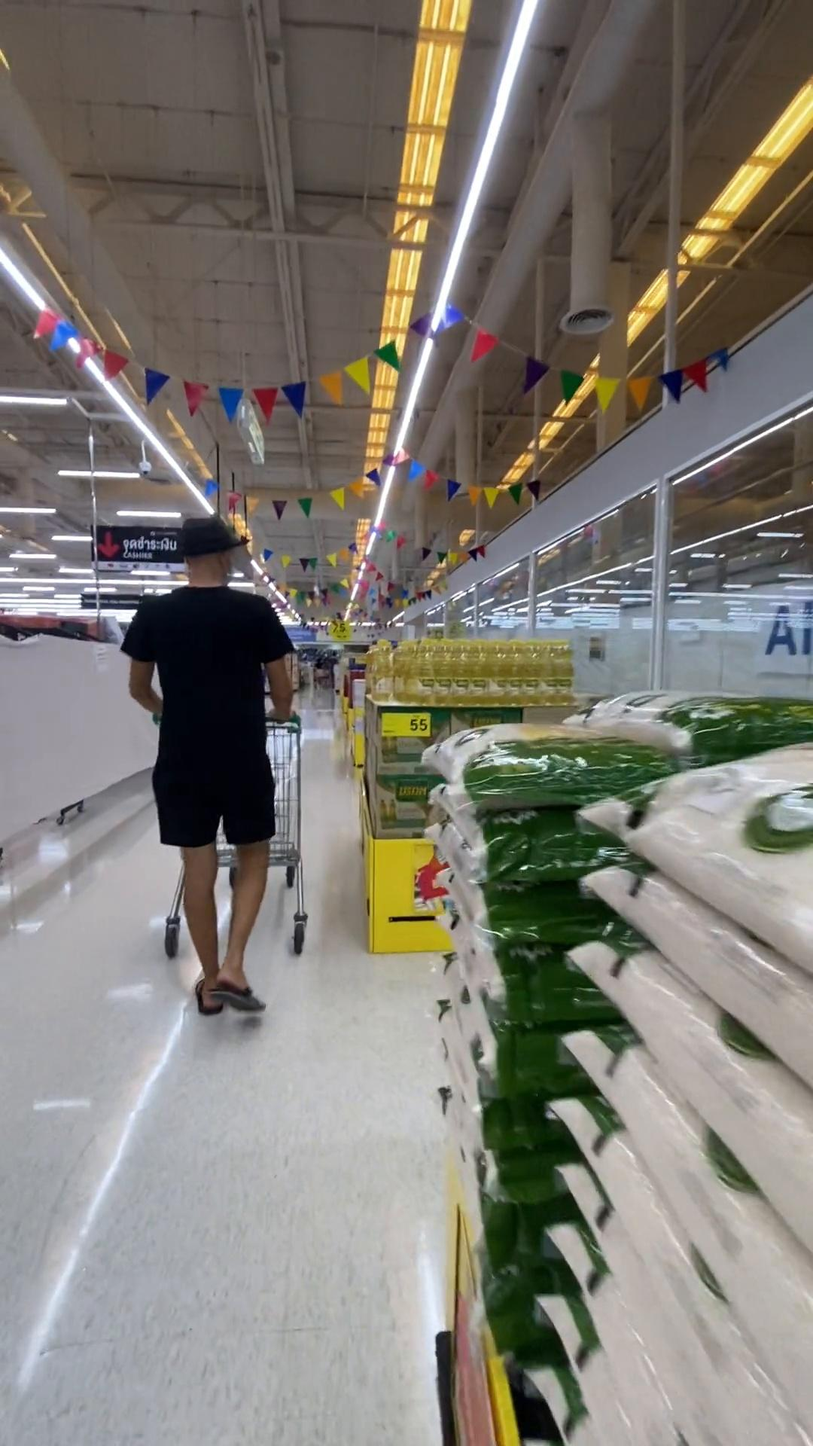Cart: (266, 717, 307, 955), (164, 865, 184, 959), (217, 826, 238, 889)
Person: (121, 516, 293, 1017)
article: (567, 694, 812, 767), (392, 641, 422, 705)
